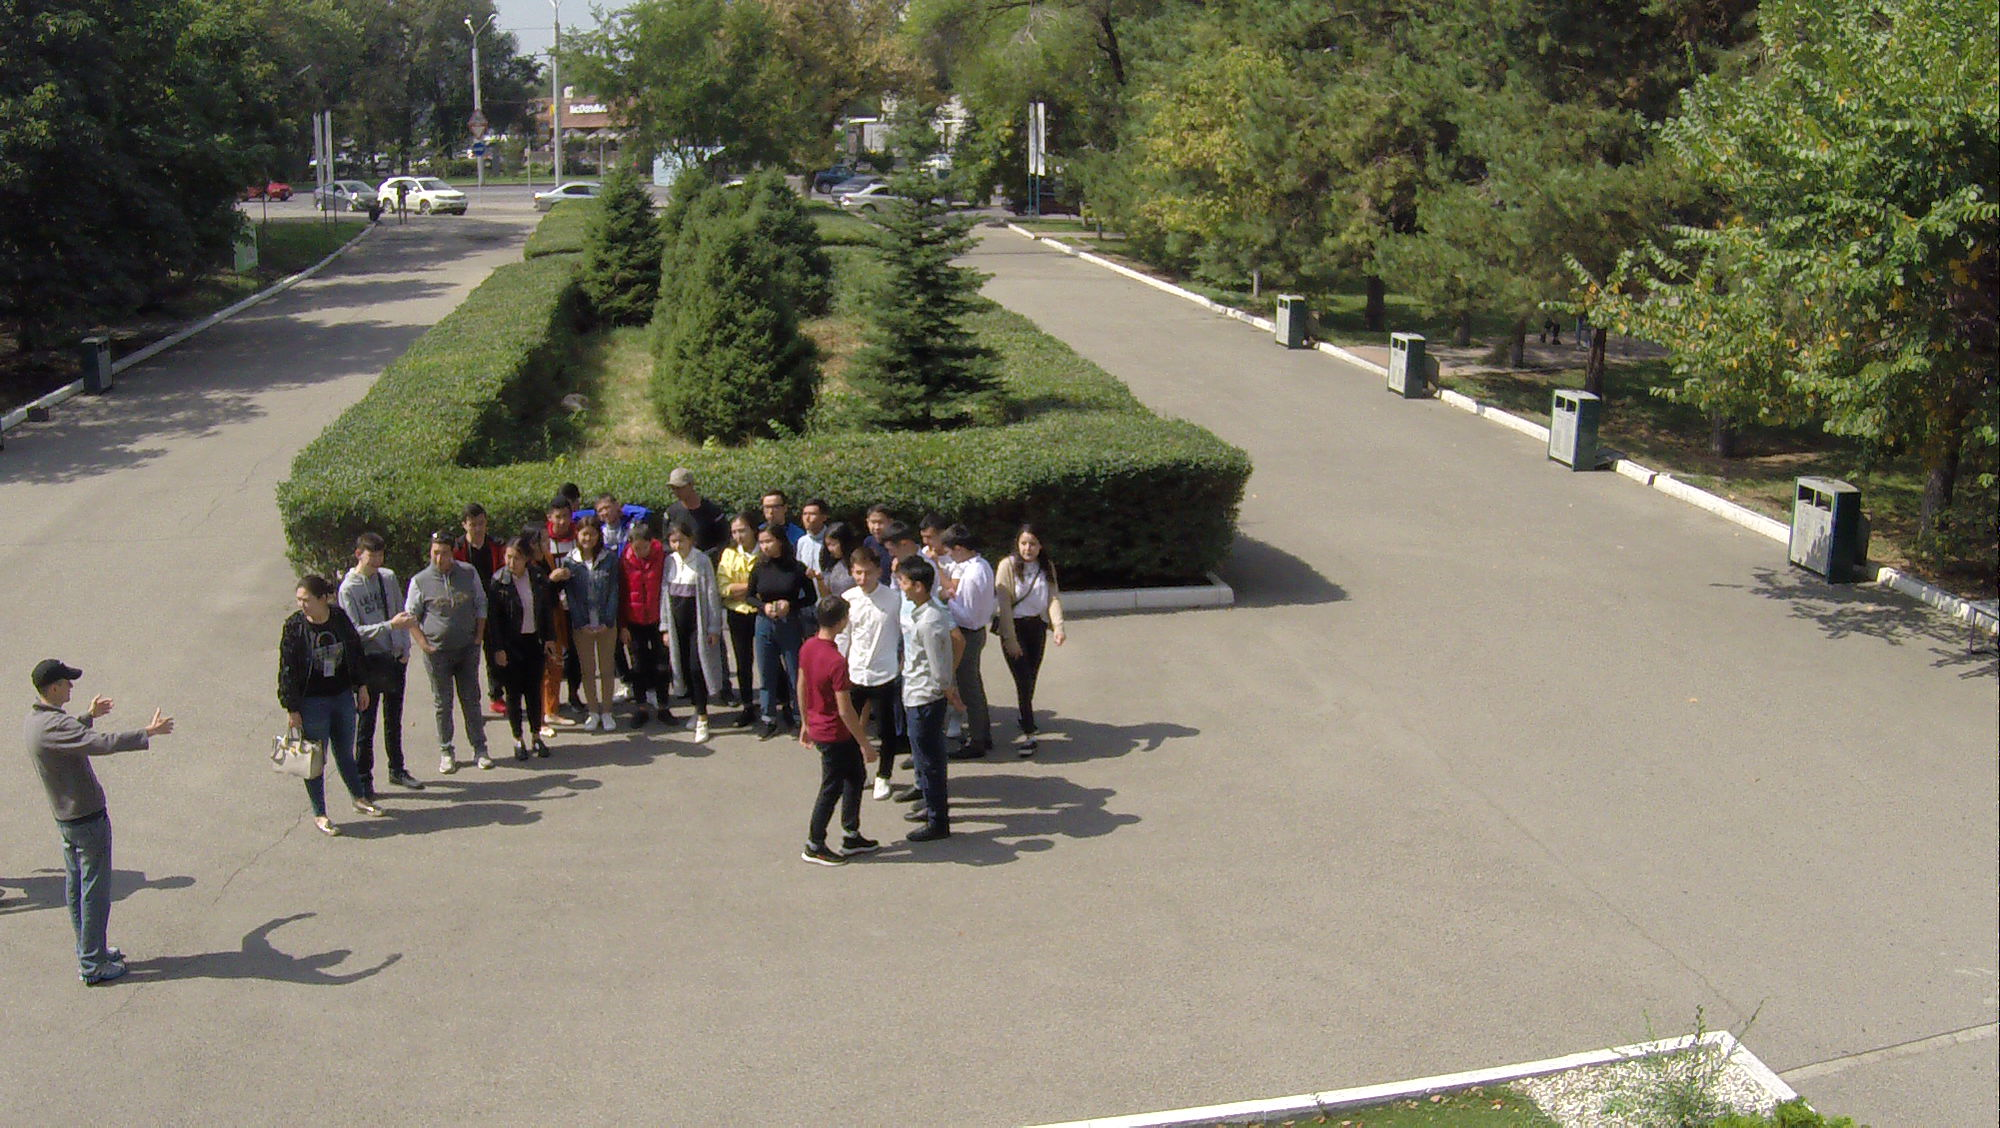person: (20, 620, 164, 1001), (793, 601, 885, 893), (280, 576, 364, 839), (405, 524, 485, 791), (899, 578, 962, 849), (343, 533, 407, 795), (745, 522, 816, 741), (622, 528, 689, 739), (999, 530, 1064, 743), (495, 543, 549, 776), (568, 520, 624, 733), (716, 514, 776, 708), (666, 533, 718, 743), (455, 503, 510, 585)
